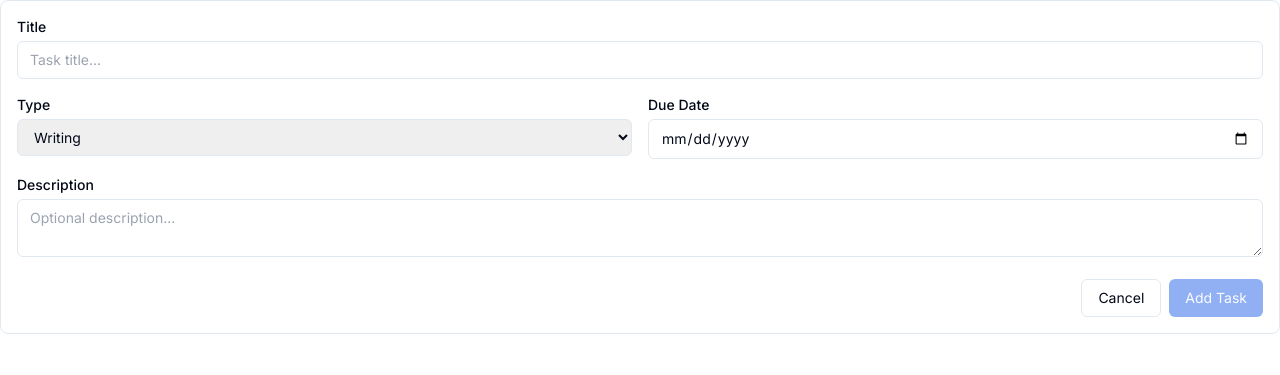
Test: TaskForm › shows validation error when due date is in the past
// Use a date clearly in the past
In the date field labelled "Due Date": (956, 139) top-left (648, 119), bottom-right (1263, 159), type "2020-01-01"
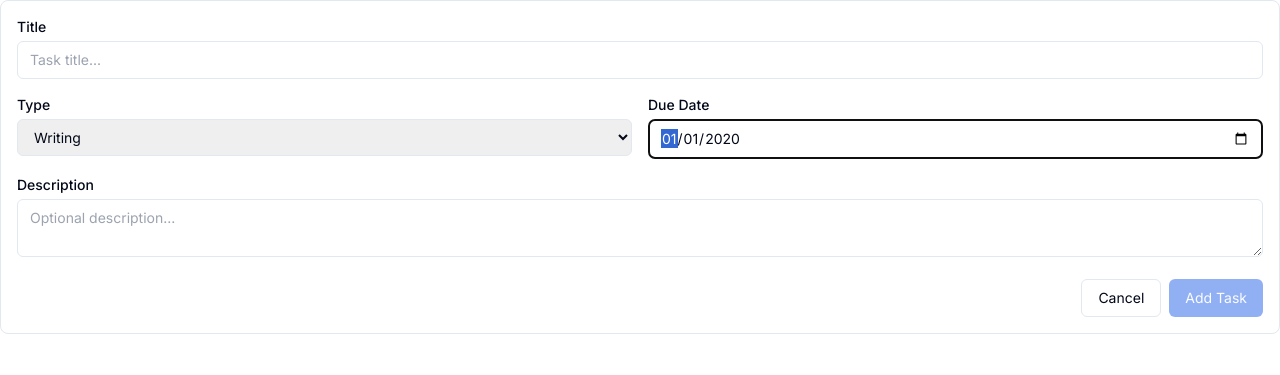
Leave the date field labelled "Due Date", box top-left (648, 119), bottom-right (1263, 159)
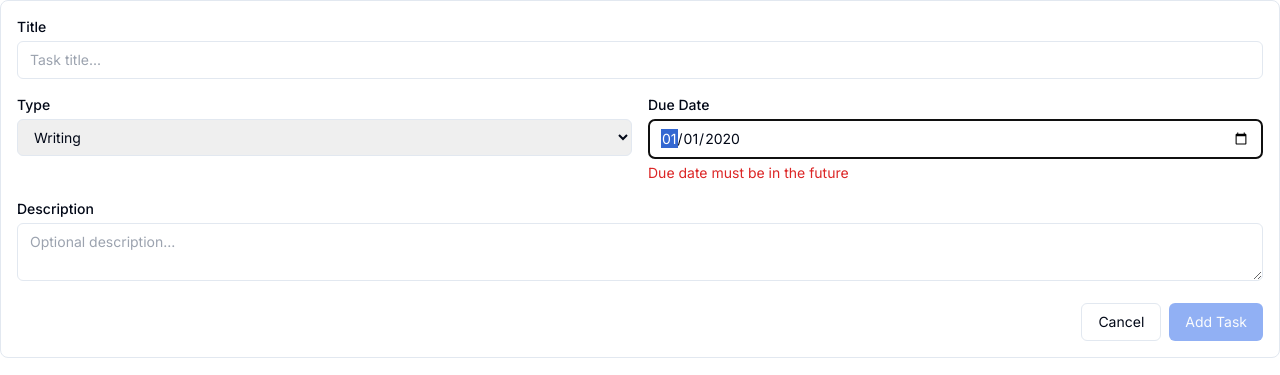
Result: the text "Due date must be in the future" is shown at top-left (648, 164), bottom-right (849, 181)
